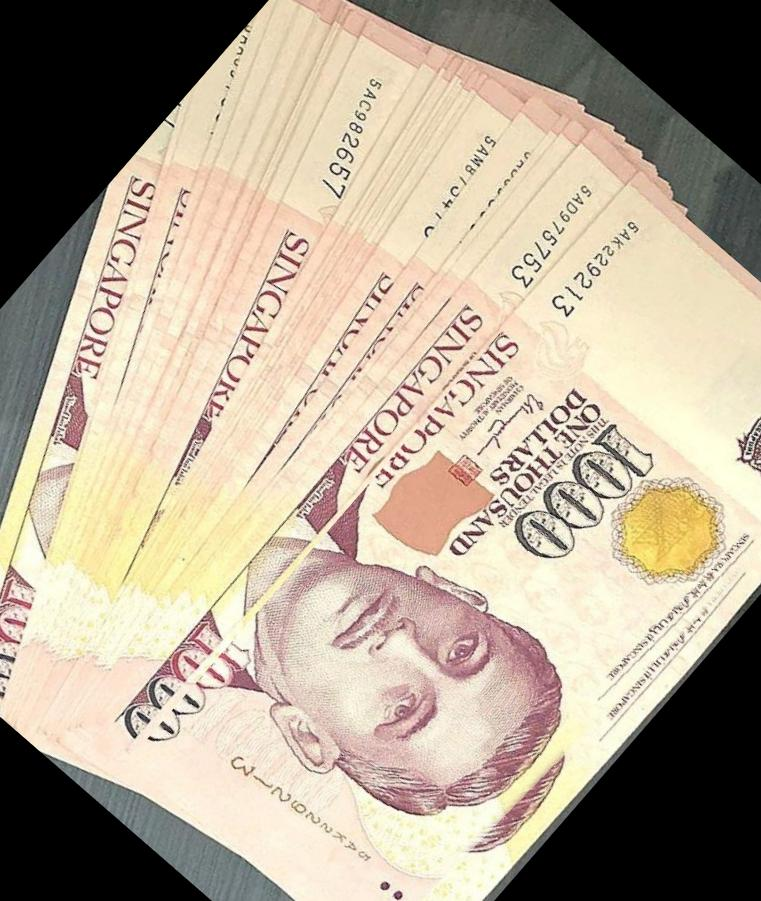1000SingaporeDollar: (133, 175, 761, 901)
